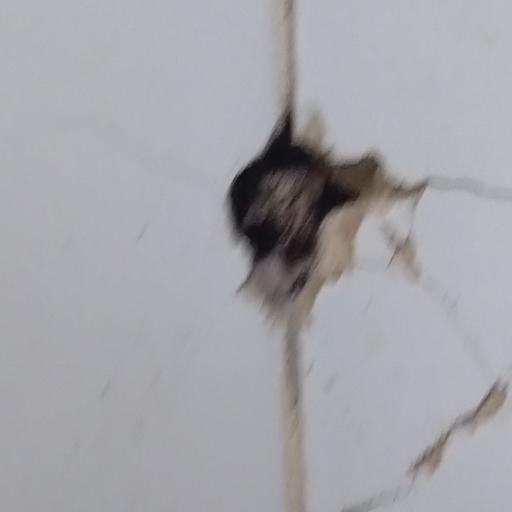spalling: (183, 67, 449, 378)
